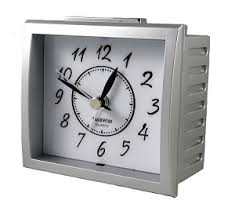alarm_clock: (16, 13, 212, 199)
